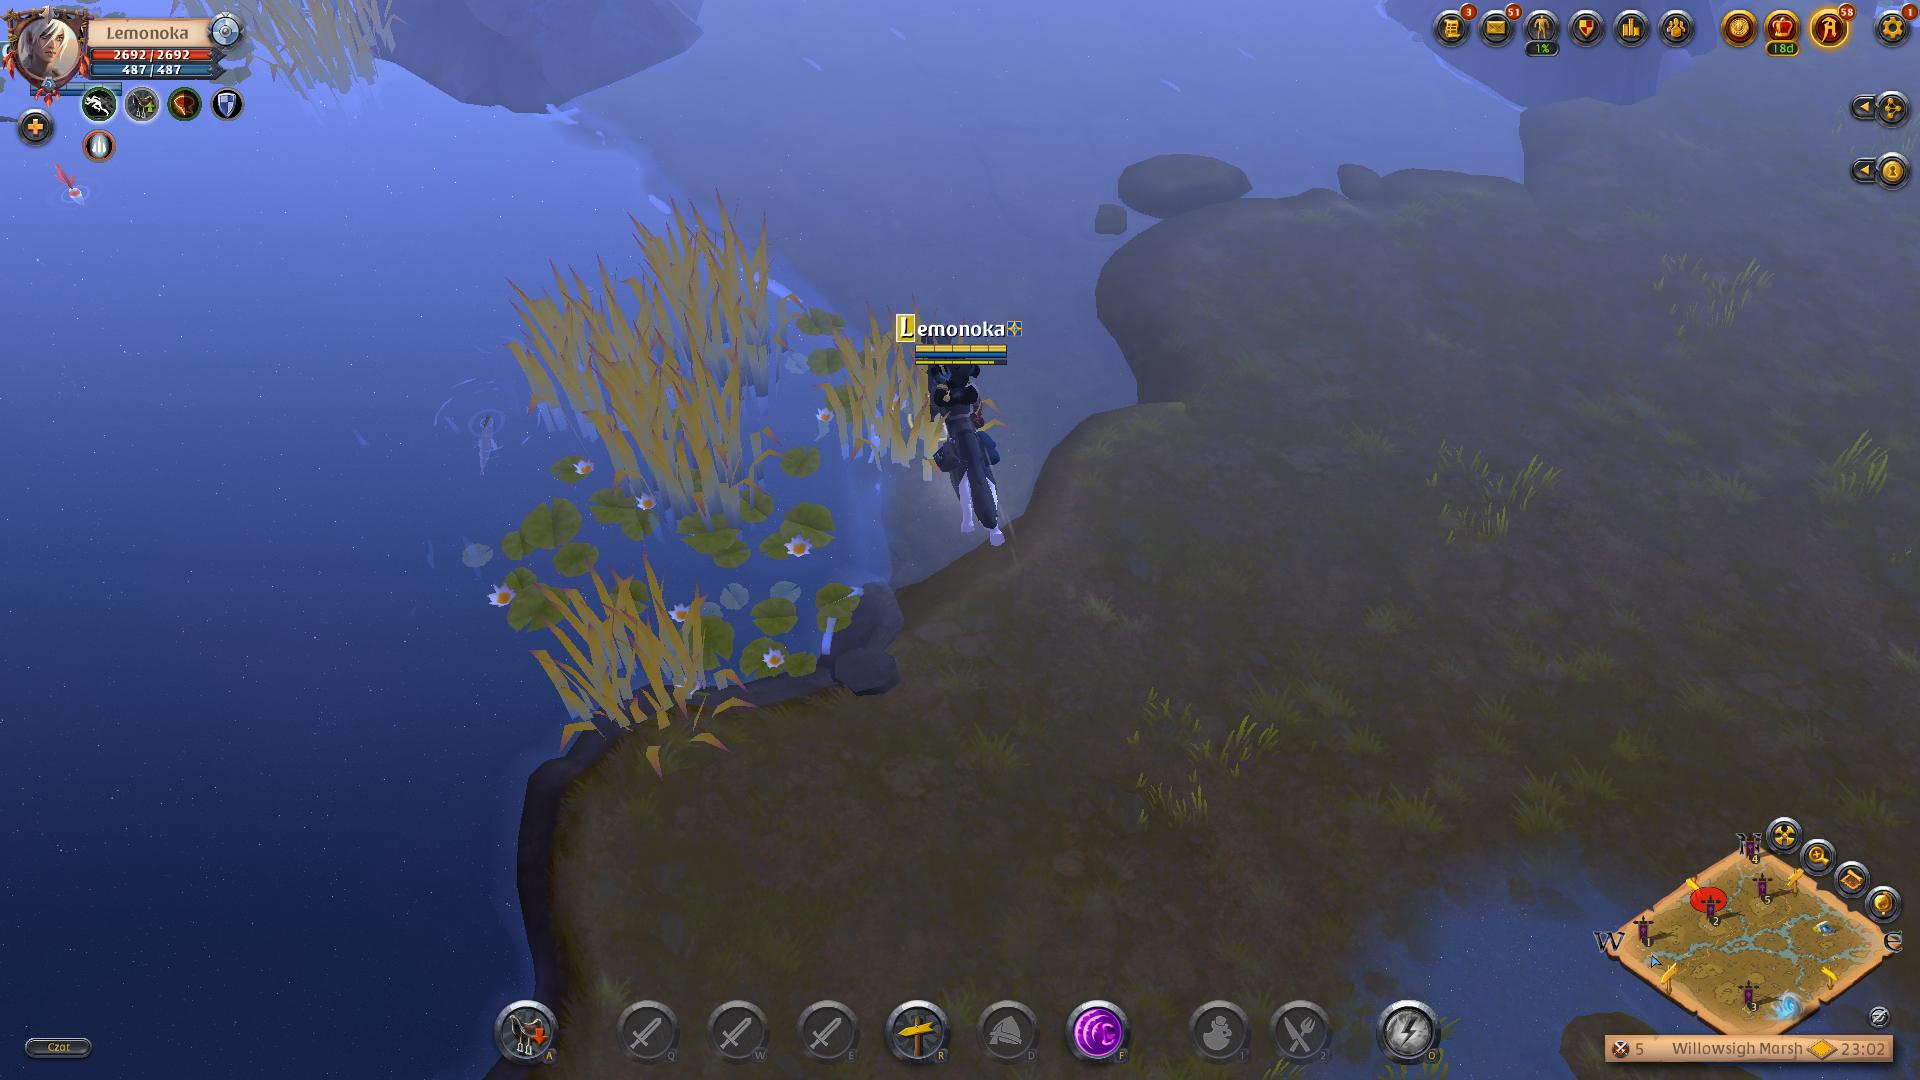fish: (423, 368, 533, 480)
